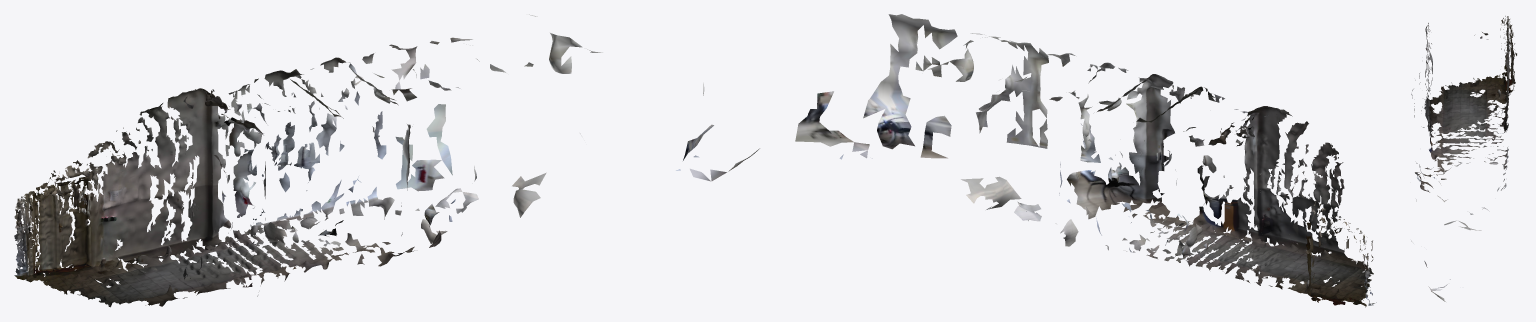
The model's file is 113587-KNE327Door-tex.glb.
3 renders of one model, left to right at view 1: azimuth 30°, elevation 25°; view 2: azimuth 150°, elevation 25°; view 3: azimuth 270°, elevation 25°, orthographic. The views are drawn at different scales.
Visible parts, largest first — view 1: Node; view 2: Node; view 3: Node.
Boxes of the visible parts, bbox=[...] form: Node: bbox=[14, 14, 759, 307]; Node: bbox=[795, 14, 1376, 307]; Node: bbox=[1411, 16, 1516, 301].
Size of the model in its own units: 19.93 by 4.91 by 4.16.
10 materials, 10 textured.
